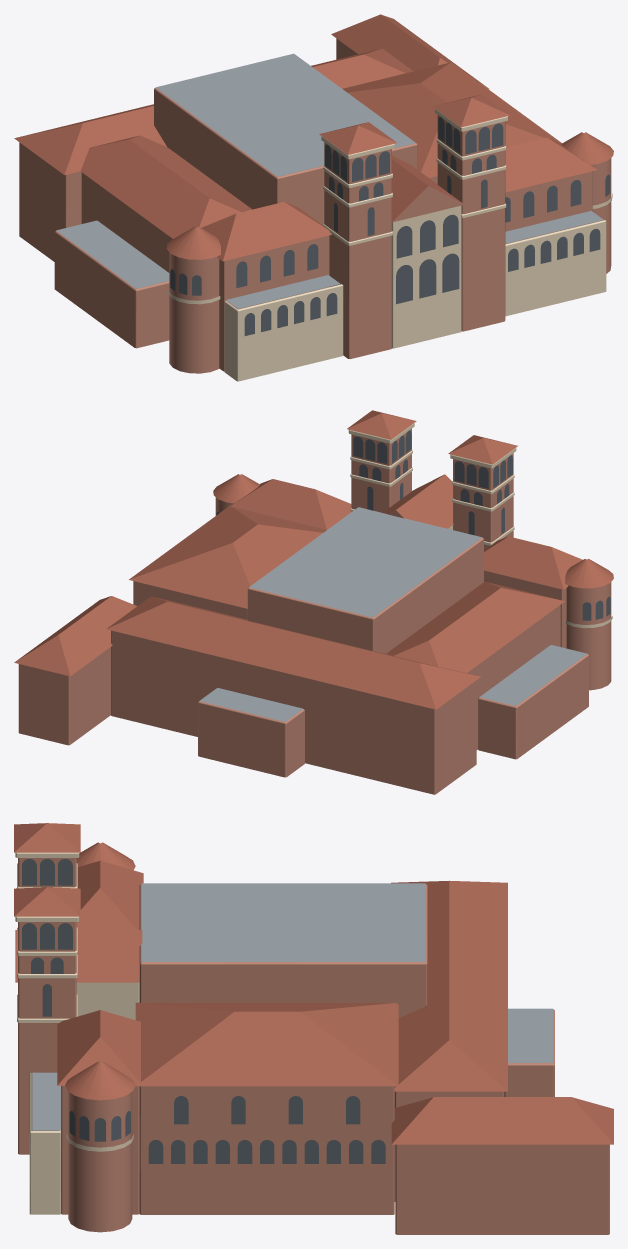
Rendered from detail.glb.
3 views of the same model, one above another, from view 1: azimuth 30°, elevation 25°; view 2: azimuth 150°, elevation 25°; view 3: azimuth 270°, elevation 25° (orthographic). The views are drawn at different scales.
Visible parts, largest first — view 1: royce-hall; view 2: royce-hall; view 3: royce-hall.
Boxes of the visible parts, x1,y1,x2,y2 form: royce-hall: (14,14,613,381); royce-hall: (14,410,613,794); royce-hall: (14,823,613,1234).
Bounding box in the file's own units: 92.3 × 43 × 91.7.
